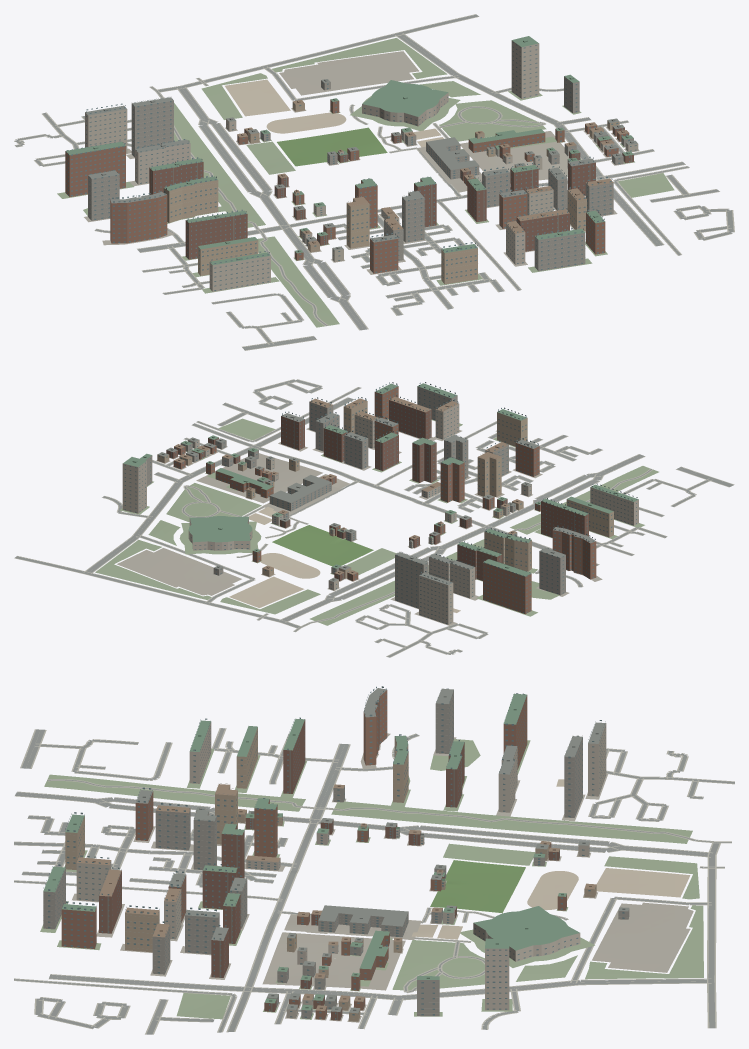
The picture shows the model from 3 angles, top to bottom: view 1: azimuth 30°, elevation 25°; view 2: azimuth 150°, elevation 25°; view 3: azimuth 270°, elevation 25°; orthographic projection. The views are drawn at different scales.
Visible parts, largest first — view 1: context-osm-buildings, context-building-plinths, context-osm-roads, context-osm-sidewalks; view 2: context-osm-buildings, context-building-plinths, context-osm-roads, context-osm-sidewalks; view 3: context-osm-buildings, context-building-plinths, context-osm-roads, context-osm-sidewalks.
Boxes of the visible parts, x1=… form: context-osm-buildings: x1=65, y1=36, x2=638, y2=291; context-building-plinths: x1=57, y1=38, x2=674, y2=327; context-osm-roads: x1=15, y1=14, x2=733, y2=350; context-osm-sidewalks: x1=14, y1=14, x2=734, y2=350; context-osm-buildings: x1=122, y1=382, x2=638, y2=624; context-building-plinths: x1=95, y1=418, x2=658, y2=625; context-osm-roads: x1=15, y1=379, x2=733, y2=657; context-osm-sidewalks: x1=14, y1=379, x2=734, y2=657; context-osm-buildings: x1=43, y1=686, x2=629, y2=1021; context-building-plinths: x1=40, y1=733, x2=703, y2=1022; context-osm-roads: x1=14, y1=728, x2=734, y2=1034; context-osm-sidewalks: x1=14, y1=728, x2=734, y2=1034.
Bounding box in the file's own units: 720 × 72.16 × 720.
